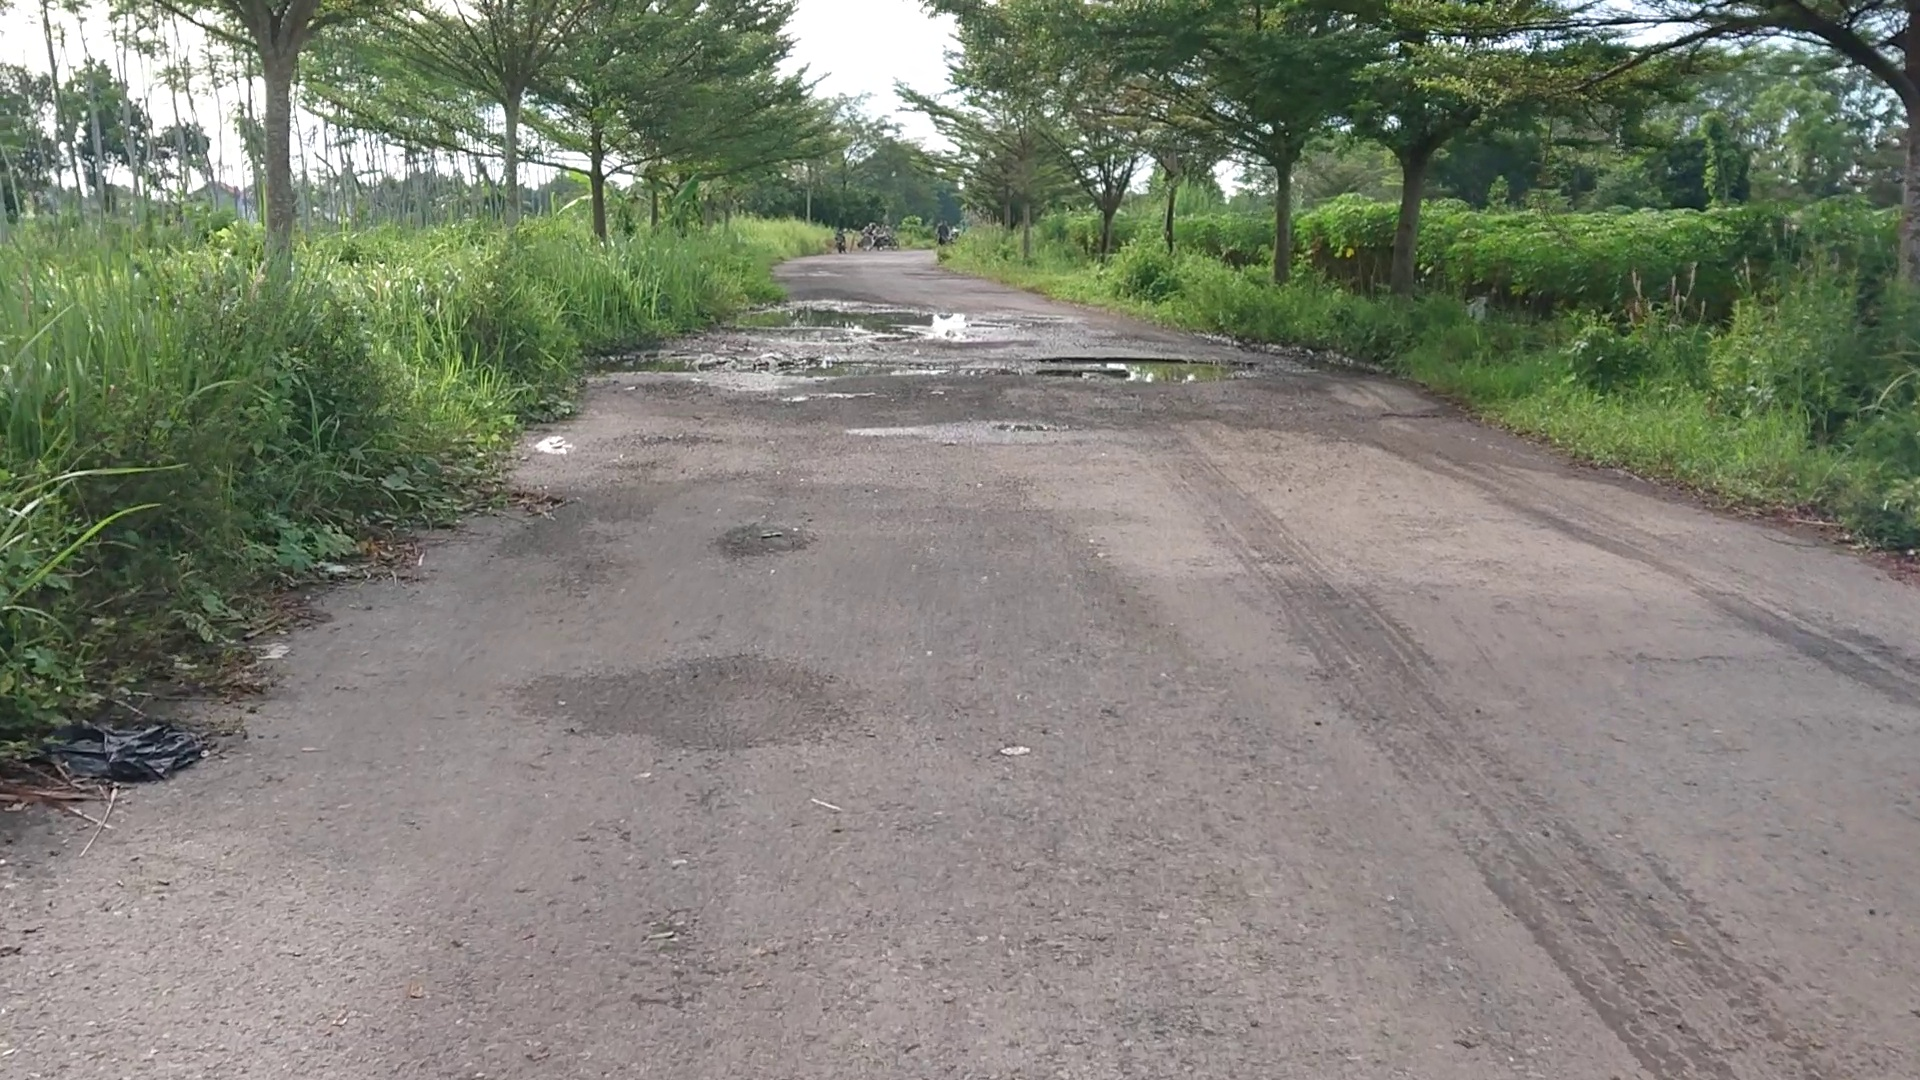Berlubang: (728, 295, 975, 401), (1001, 334, 1251, 397)
